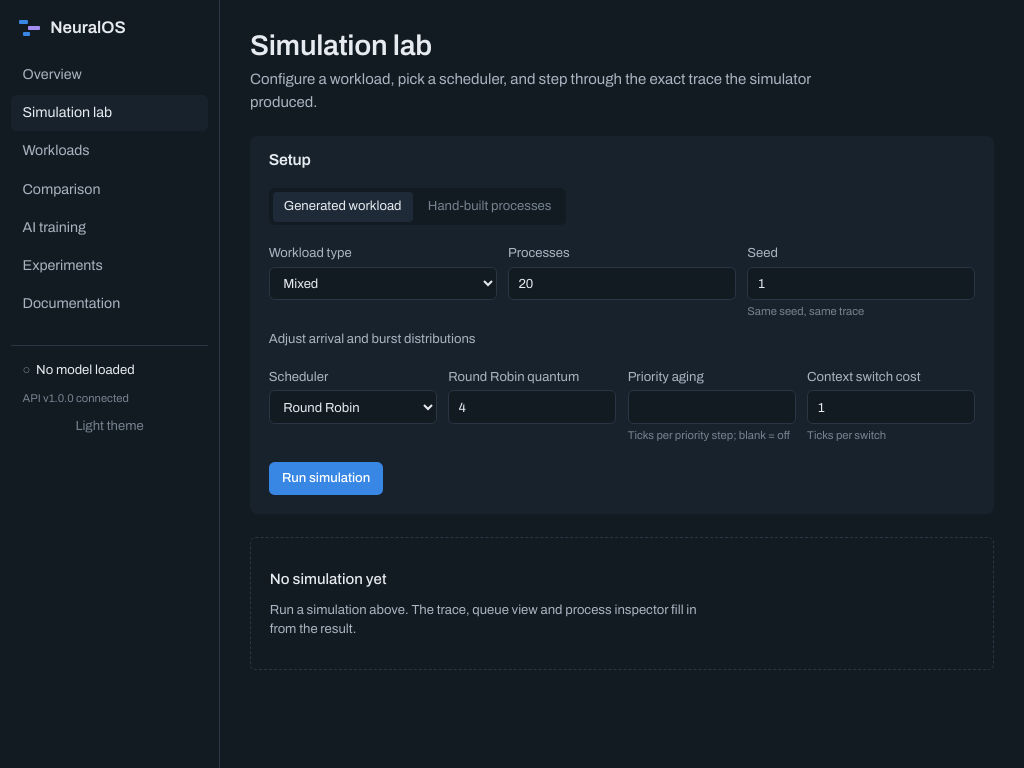
simulation lab › shows the API's reason when a request is refused
Click the button "Run simulation".
click(326, 478)  # box [269,462,384,495]
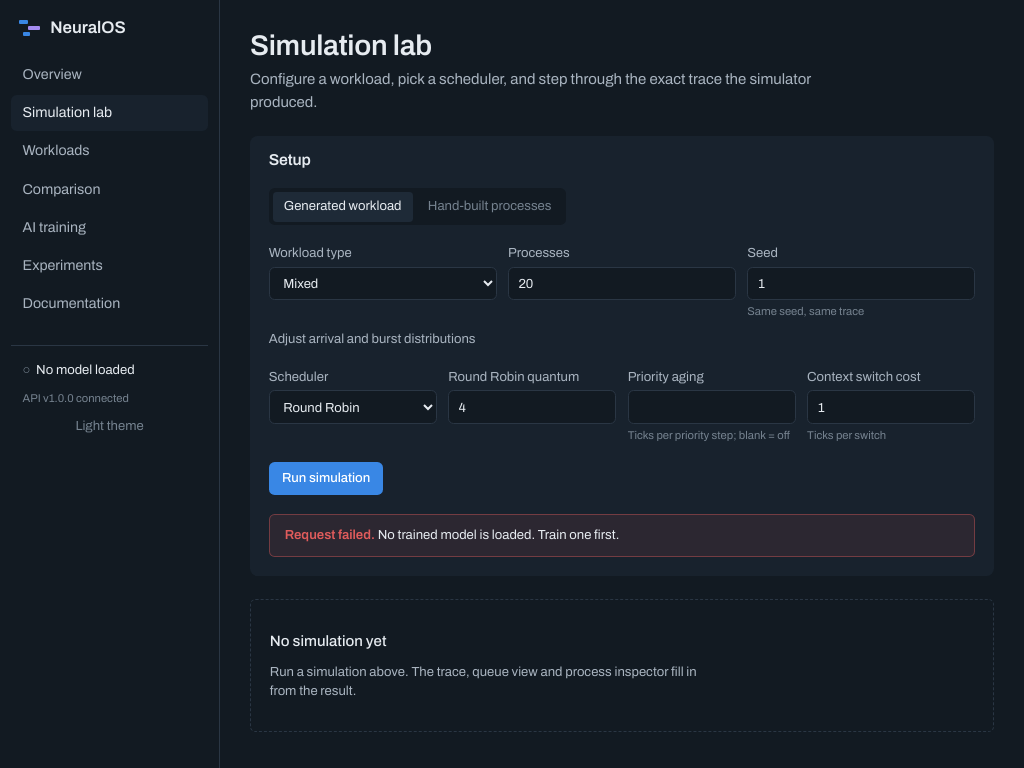
Expected: the message shows "No trained model is loaded. Train one first.", [378,527,619,542]
